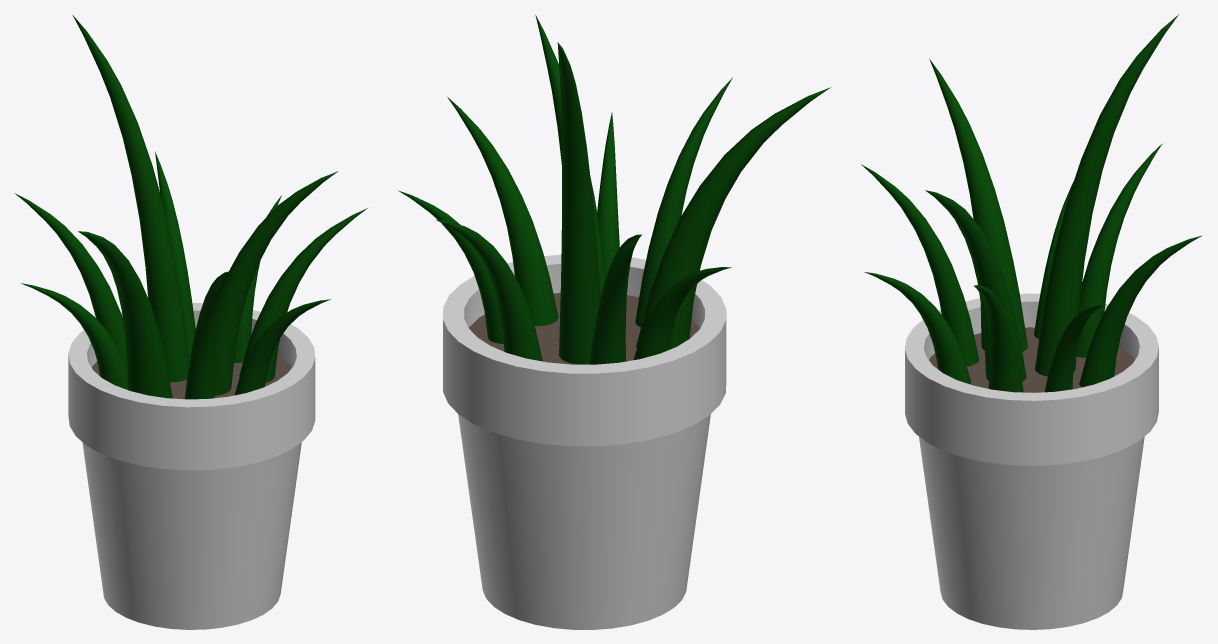
Rendered from Plante5_2.fbx.
3 views of the same model, side by side, from view 1: azimuth 30°, elevation 25°; view 2: azimuth 150°, elevation 25°; view 3: azimuth 270°, elevation 25° (orthographic). The views are drawn at different scales.
Visible parts, largest first — view 1: pCylinder723, pCone18, pCone17, pCone15, pCone10, pCone12, pCone14, pCone19, pCone16, pCone11, pCone13, pCylinder722; view 2: pCylinder723, pCone18, pCone17, pCone12, pCone14, pCone11, pCone10, pCone19, pCylinder722, pCone16, pCone13, pCone15; view 3: pCylinder723, pCone18, pCone17, pCone14, pCone10, pCone11, pCone15, pCone12, pCone16, pCylinder722, pCone13, pCone19.
Part boxes in pixels (x1,y1,x2,y2): pCylinder723: (68, 303, 315, 629); pCone18: (72, 15, 189, 382); pCone17: (78, 231, 172, 398); pCone15: (214, 171, 338, 395); pCone10: (14, 193, 127, 370); pCone12: (239, 208, 367, 382); pCone14: (184, 271, 229, 399); pCone19: (21, 283, 127, 389); pCone16: (234, 299, 330, 395); pCone11: (155, 152, 195, 357); pCone13: (234, 195, 281, 362); pCylinder722: (91, 355, 291, 399); pCylinder723: (443, 254, 726, 629); pCone18: (557, 42, 600, 364); pCone17: (636, 87, 830, 349); pCone12: (447, 97, 558, 325); pCone14: (635, 77, 732, 327); pCone11: (436, 219, 542, 361); pCone10: (589, 234, 641, 364); pCone19: (633, 267, 731, 360); pCylinder722: (469, 293, 700, 364); pCone16: (597, 112, 619, 274); pCone13: (398, 190, 503, 343); pCone15: (535, 15, 606, 297); pCylinder723: (905, 293, 1158, 629); pCone18: (1035, 14, 1178, 376); pCone17: (929, 58, 1027, 351); pCone14: (861, 164, 979, 366); pCone10: (1076, 143, 1162, 357); pCone11: (1079, 235, 1202, 387); pCone15: (925, 190, 1026, 381); pCone12: (973, 285, 1023, 392); pCone16: (864, 272, 970, 384); pCylinder722: (929, 327, 1134, 392); pCone13: (1044, 304, 1105, 392); pCone19: (1034, 181, 1073, 338).
Bounding box in the file's own units: 16.39 × 26.9 × 15.12.
